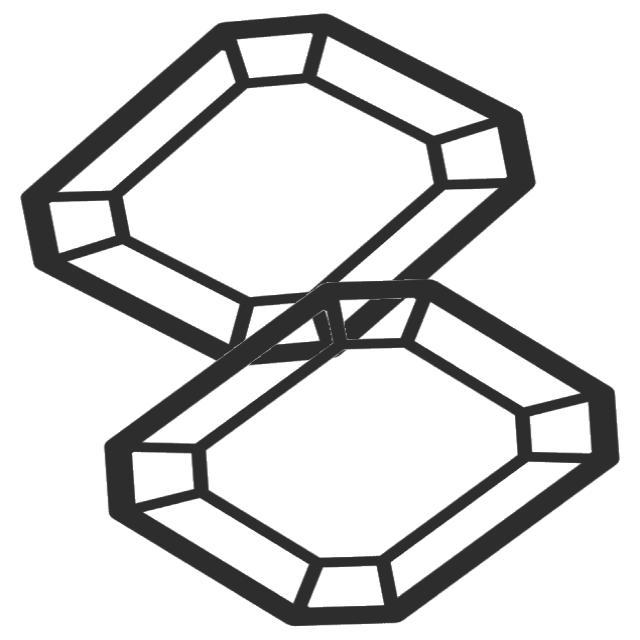emerald: (12, 9, 547, 375), (88, 275, 630, 632)
